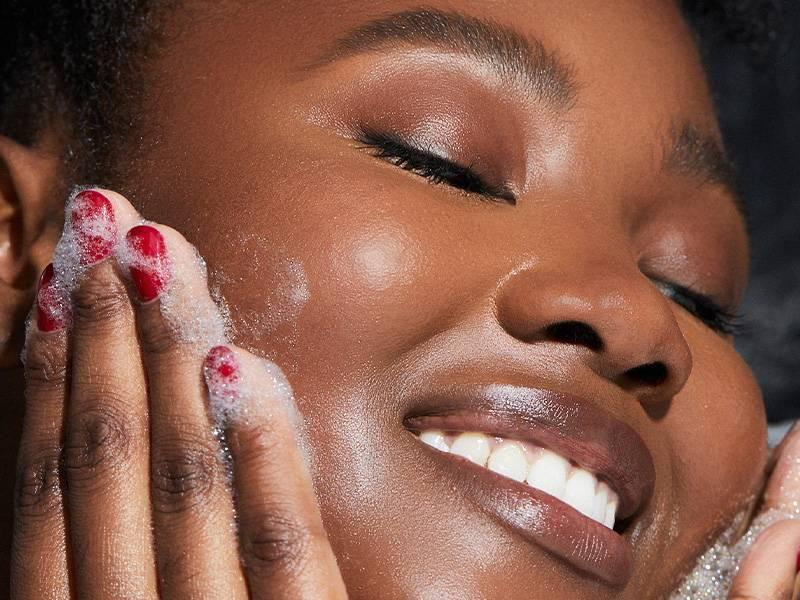Oily-Skin: (295, 183, 448, 324), (305, 361, 393, 506), (469, 246, 551, 375), (545, 109, 576, 194)
